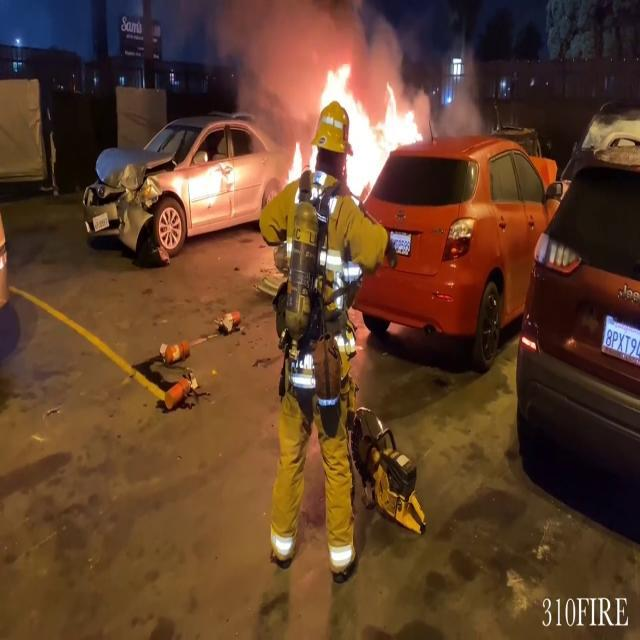Fire: (286, 56, 428, 203)
